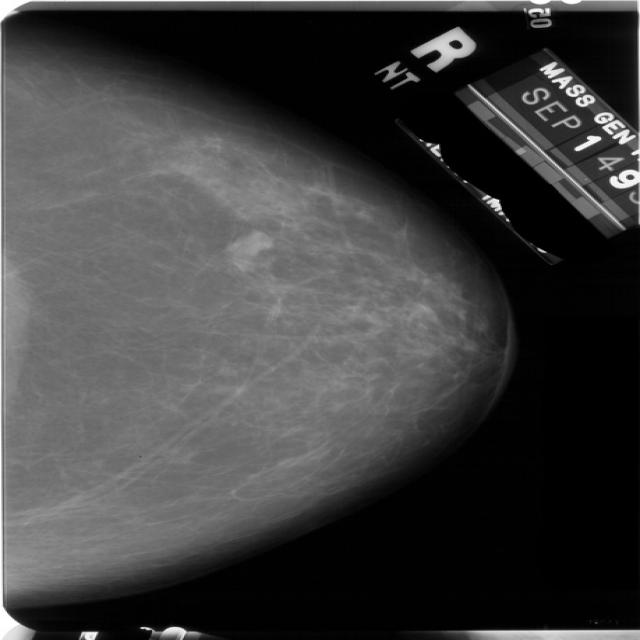tumour: (222, 230, 272, 270)
